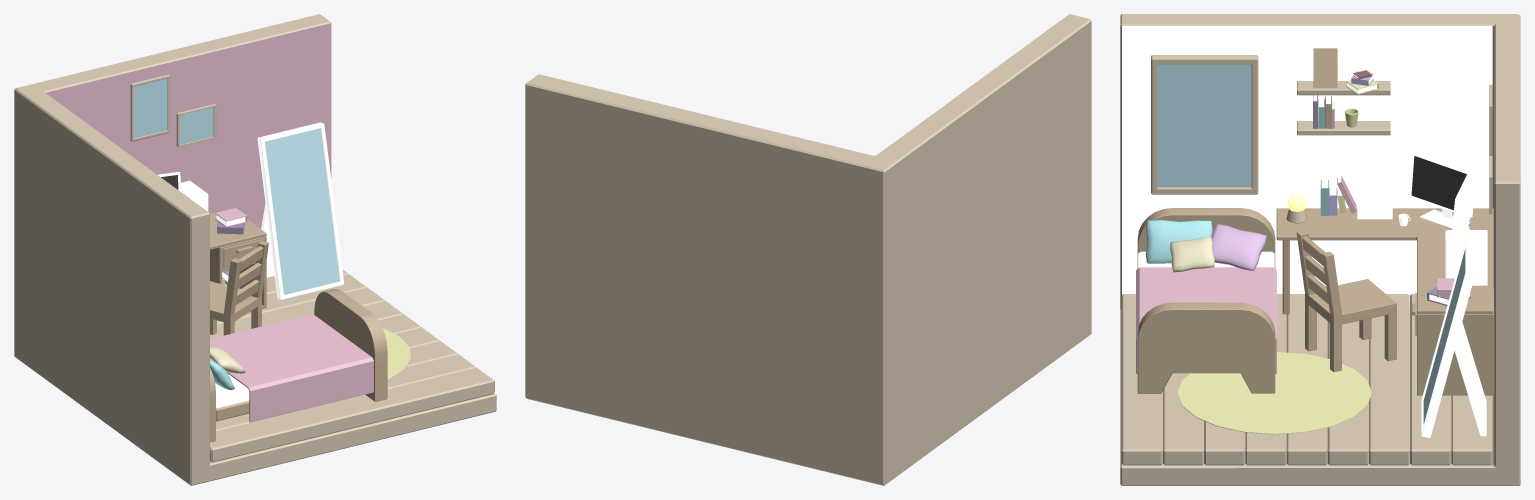
The picture shows the model from 3 angles, left to right: view 1: azimuth 30°, elevation 25°; view 2: azimuth 150°, elevation 25°; view 3: azimuth 270°, elevation 25°; orthographic projection. The views are drawn at different scales.
Parts seen in each view (by area): view 1: Object_15, Object_12, Object_9, Object_14, Object_19, Object_18, Object_17, Object_3; view 2: Object_15; view 3: Object_15, Object_19, Object_14, Object_9, Object_17, Object_18, Object_12, screen, Object_4, Object_2, Object_3, Object_13 (+1 smaller).
Part boxes in pixels (box(x1,y1,x2,y2)): Object_15: box(14, 14, 496, 485); Object_12: box(46, 23, 373, 422); Object_9: box(134, 78, 339, 294); Object_14: box(210, 208, 387, 442); Object_19: box(159, 124, 373, 408); Object_18: box(157, 122, 344, 299); Object_17: box(222, 277, 410, 379); Object_3: box(210, 346, 245, 373); Object_15: box(525, 14, 1091, 485); Object_15: box(1120, 14, 1520, 485); Object_19: box(1122, 26, 1492, 433); Object_14: box(1137, 49, 1493, 395); Object_9: box(1157, 64, 1465, 424); Object_17: box(1177, 80, 1378, 434); Object_18: box(1357, 152, 1486, 437); Object_12: box(1136, 101, 1454, 373); screen: box(1411, 156, 1466, 210); Object_4: box(1211, 223, 1267, 270); Object_2: box(1145, 220, 1212, 263); Object_3: box(1170, 236, 1214, 272); Object_13: box(1313, 48, 1337, 127).
Bounding box in the file's own units: 11.27 × 9.45 × 11.27.
